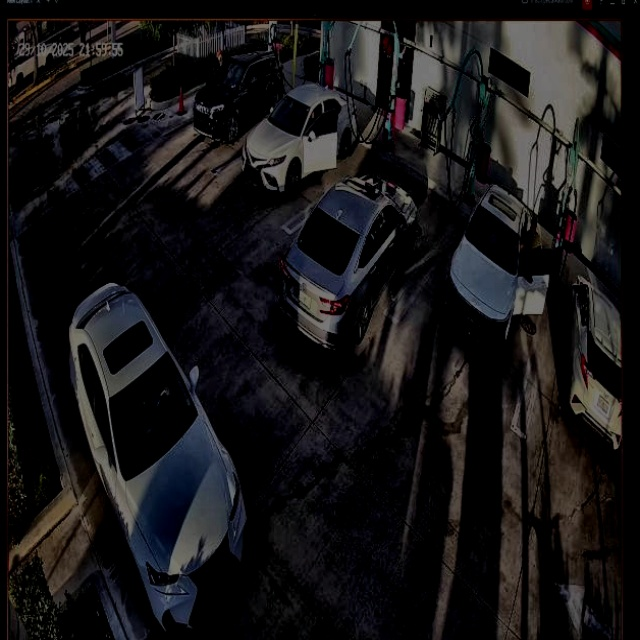Car: (68, 285, 249, 637), (280, 172, 416, 353), (447, 185, 551, 356), (244, 82, 358, 191)
